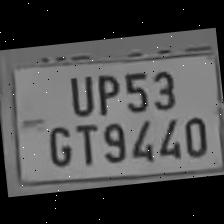0: (176, 110, 210, 160)
3: (145, 61, 178, 110)
4: (124, 112, 156, 162), (152, 111, 182, 160)
5: (118, 62, 151, 114)
9: (96, 116, 128, 164)
G: (41, 119, 75, 169)
P: (91, 65, 122, 114)
T: (71, 118, 101, 168)
U: (64, 68, 96, 117)
